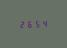five: (32, 20, 38, 27)
four: (39, 19, 45, 27)
six: (25, 20, 31, 28)
two: (18, 20, 24, 28)
